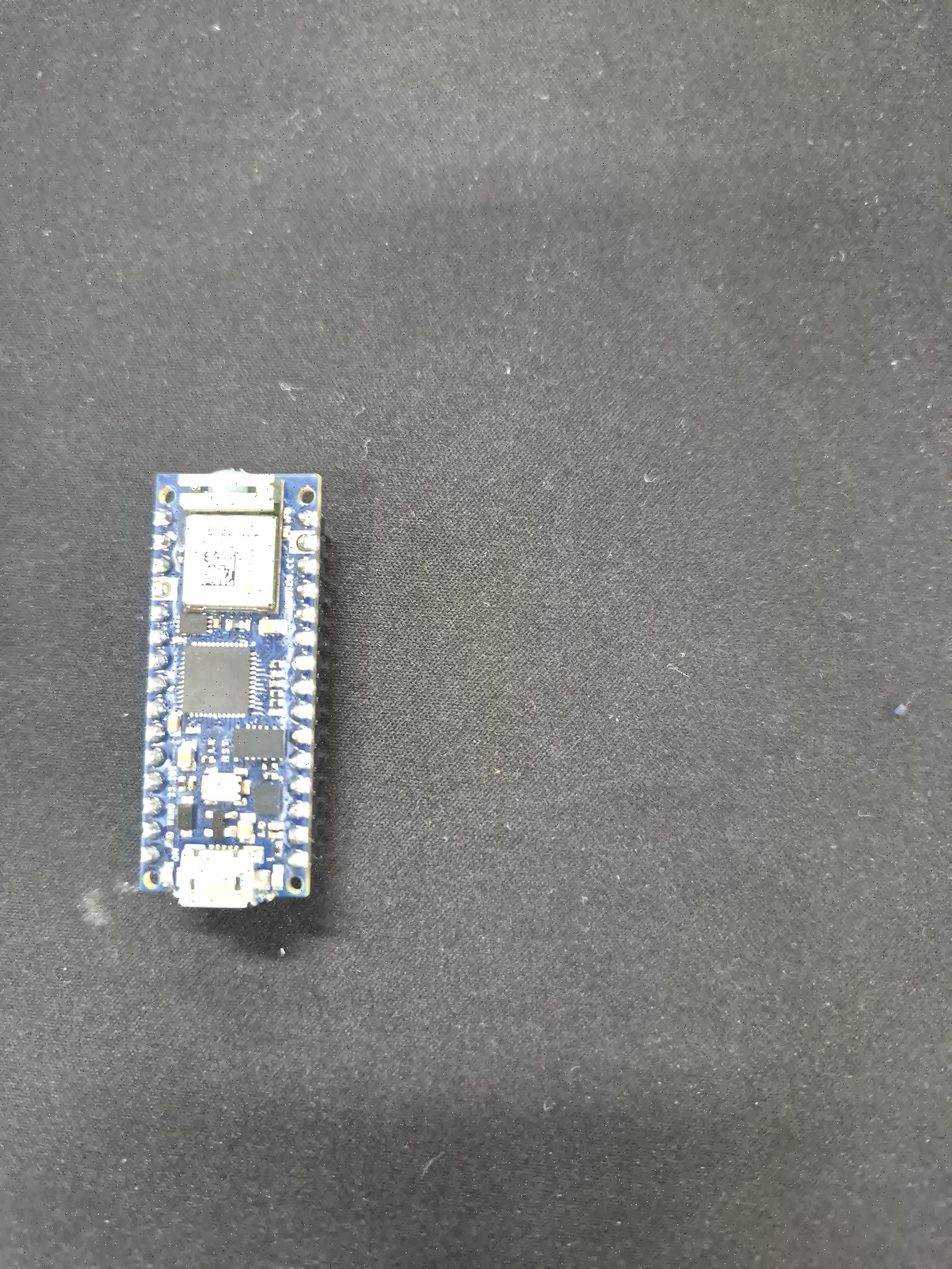arduino-nano-iot-33: (151, 466, 314, 904)
